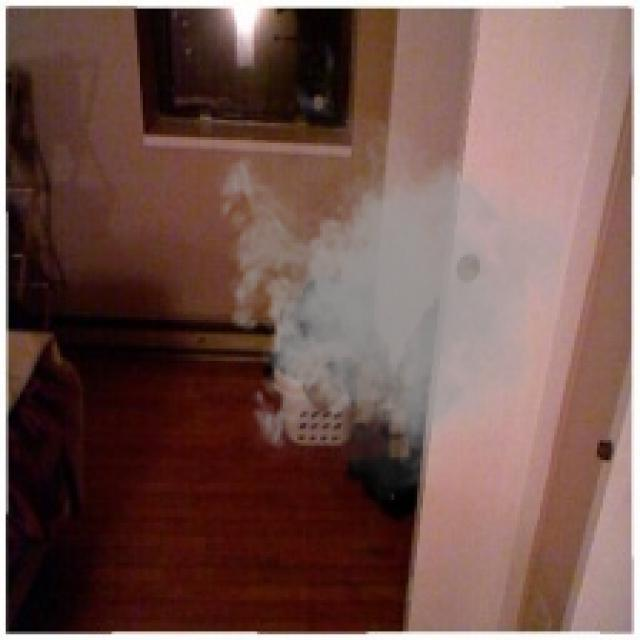Smoke: (208, 97, 574, 509)
